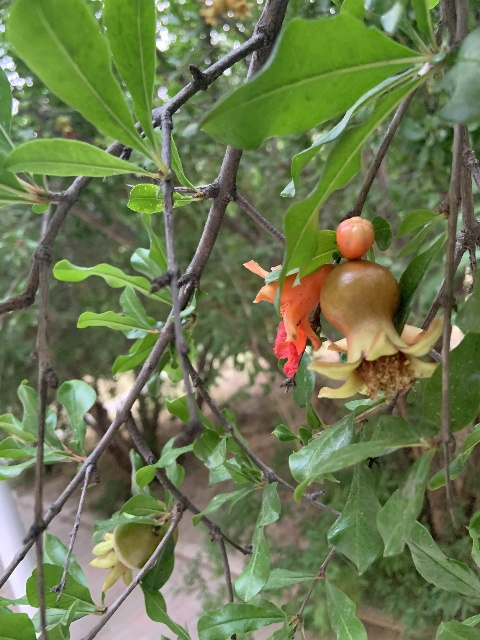bud: (336, 216, 374, 260)
early-fruit: (306, 259, 443, 403), (88, 520, 166, 593)
flower: (243, 258, 331, 376)
mid-growth: (54, 116, 75, 136)
